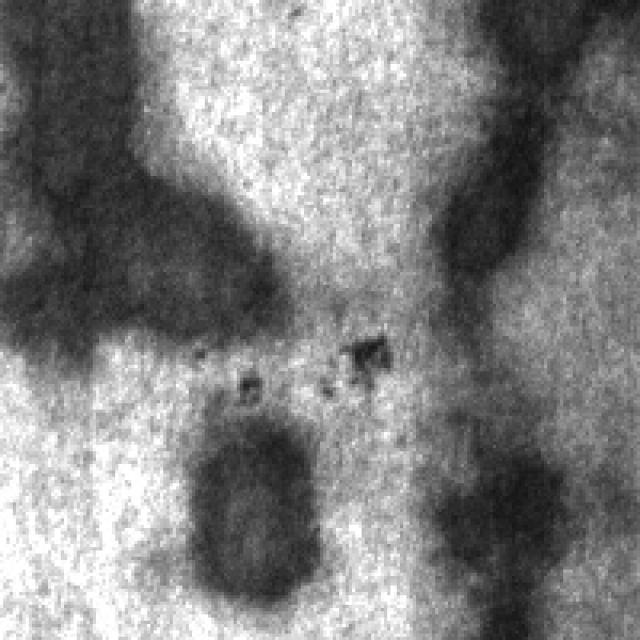patches: (0, 0, 278, 358), (416, 397, 579, 630), (413, 87, 566, 310), (182, 380, 324, 602), (471, 0, 612, 90)
